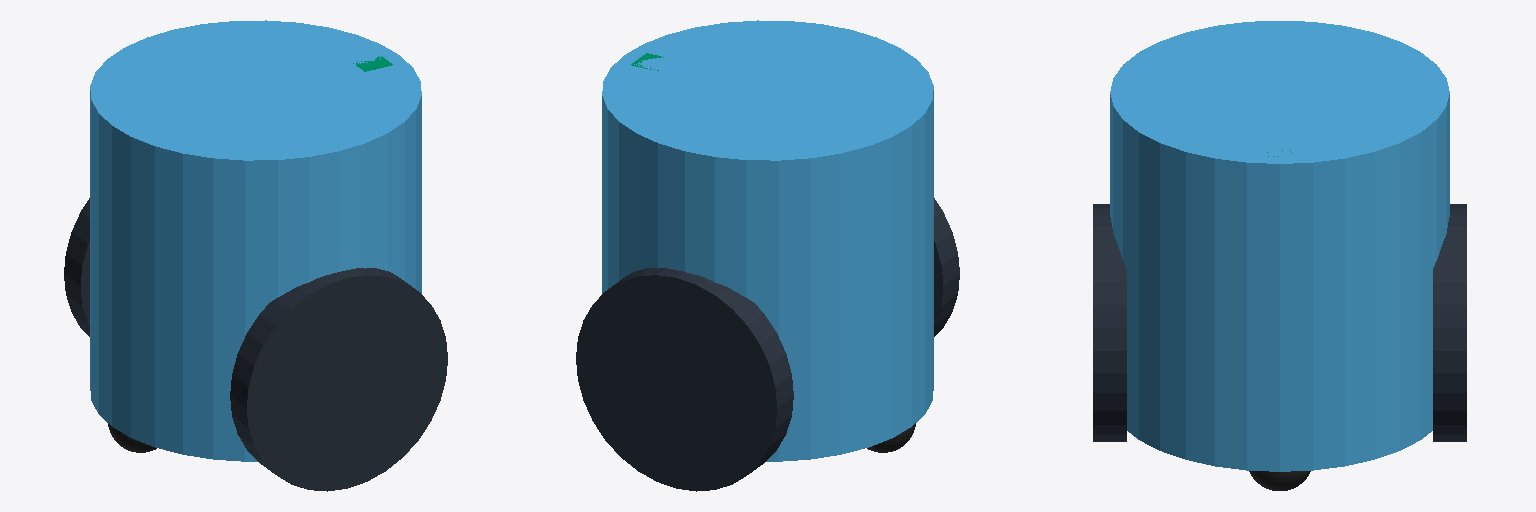
URDF robot description (box_bot):
<?xml version="1.0" ?>
<!-- =================================================================================== -->
<!-- |    This document was autogenerated by xacro from box_bot.xacro                  | -->
<!-- |    EDITING THIS FILE BY HAND IS NOT RECOMMENDED                                 | -->
<!-- =================================================================================== -->
<robot name="box_bot">
  <material name="black">
    <color rgba="0.0 0.0 0.0 1.0"/>
  </material>
  <material name="blue">
    <color rgba="0.203125 0.23828125 0.28515625 1.0"/>
  </material>
  <material name="green">
    <color rgba="0.0 0.8 0.0 1.0"/>
  </material>
  <material name="grey">
    <color rgba="0.2 0.2 0.2 1.0"/>
  </material>
  <material name="orange">
    <color rgba="1.0 0.423529411765 0.0392156862745 1.0"/>
  </material>
  <material name="brown">
    <color rgba="0.870588235294 0.811764705882 0.764705882353 1.0"/>
  </material>
  <material name="red">
    <color rgba="0.80078125 0.12890625 0.1328125 1.0"/>
  </material>
  <material name="white">
    <color rgba="1.0 1.0 1.0 1.0"/>
  </material>
  <gazebo reference="chassis">
    <material>Gazebo/Blue</material>
  </gazebo>
  <gazebo reference="left_wheel">
    <kp>1000.0</kp>
    <kd>1000.0</kd>
    <mu1>0.5</mu1>
    <mu2>0.5</mu2>
    <material>Gazebo/Blue</material>
  </gazebo>
  <gazebo reference="right_wheel">
    <kp>1000.0</kp>
    <kd>1000.0</kd>
    <mu1>0.5</mu1>
    <mu2>0.5</mu2>
    <material>Gazebo/Blue</material>
  </gazebo>
  <!-- ros_control plugin , no used in this robot for the moment-->
  <gazebo>
    <plugin filename="libgazebo_ros_control.so" name="gazebo_ros_control">
      <robotNamespace>/box_bot</robotNamespace>
      <robotParam>/robot_description</robotParam>
      <robotSimType>gazebo_ros_control/DefaultRobotHWSim</robotSimType>
    </plugin>
  </gazebo>
  <gazebo>
    <plugin filename="libgazebo_ros_diff_drive.so" name="differential_drive_controller">

      <ros>
        <!-- <namespace>/box_bot</namespace> -->
      </ros>

      <!-- wheels -->
      <left_joint>joint_right_wheel</left_joint>
      <right_joint>joint_left_wheel</right_joint>

      <!-- kinematics -->
      <wheel_separation>0.1</wheel_separation>
      <wheel_diameter>0.025</wheel_diameter>

      <!-- limits -->
      <max_wheel_torque>0.1</max_wheel_torque>
      <max_wheel_acceleration>1.0</max_wheel_acceleration>

      <!-- output -->
      <publish_odom>true</publish_odom>
      <publish_odom_tf>true</publish_odom_tf>

      <odometry_frame>odom</odometry_frame>
      <robot_base_frame>chassis</robot_base_frame>


    </plugin>

    <plugin name="box_bot_joint_state" filename="libgazebo_ros_joint_state_publisher.so">
        <ros>
            <remapping>~/out:=joint_states</remapping>
        </ros>
        <update_rate>30</update_rate>
        <joint_name>wheel_left_joint</joint_name>
        <joint_name>wheel_right_joint</joint_name>
    </plugin>

  </gazebo>
  <!-- imu -->

  <gazebo reference="base_link">
    <sensor name="box_bot_imu" type="imu">
      <always_on>true</always_on>
      <update_rate>30</update_rate>
      <plugin filename="libgazebo_ros_imu_sensor.so" name="box_bot_imu_plugin" >
        <ros>
          <argument>~/out:=data</argument>
        </ros>
      </plugin>
    </sensor>
  </gazebo>
  <!--
  <xacro:include filename="$(find box_bot_description)/robot/box_bot_propeller.xacro" />
  -->
  <link name="base_link">
      </link>
  <link name="chassis">
    <!-- pose and inertial -->
    <pose>0 0 0 0 0 0</pose>
    <inertial>
      <mass value="1.0"/>
      <origin rpy="0 0 0" xyz="0 0 -0.025"/>
      <inertia ixx="0.00033333333333333343" ixy="0" ixz="0" iyy="0.00033333333333333343" iyz="0" izz="0.00033333333333333343"/>
      <inertia ixx="0.000241935" ixy="0" ixz="0" iyy="0.000241935" iyz="0" izz="0.000241935"/>
    </inertial>
    <!-- body -->
    <collision name="collision_chassis">
      <geometry>
        <!-- <box size="0.1 0.1 0.1"/> -->

        <cylinder length="0.1" radius="0.05"/>
      </geometry>
    </collision>
    <visual name="visual_chassis">
      <geometry>
        <!-- <box size="0.1 0.1 0.1"/> -->
        <cylinder length="0.1" radius="0.05"/>
      </geometry>
    </visual>
  </link>
  <gazebo reference="chassis">
    <material>Gazebo/Red</material>
  </gazebo>
  <joint name="base_link_joint" type="fixed">
    <origin rpy="0 0 0" xyz="0 0 0"/>
    <parent link="base_link"/>
    <child link="chassis"/>
  </joint>

    <!-- CAMERA-->
    <link name='rgb_cam_camera_link'>
		<visual>
			<origin xyz="0 0 0"
					rpy="0 0 0"/>
			<geometry>
				<box size="0.01 0.01 0.01"/>
			</geometry>
		</visual>
	</link>

    <joint name="rgb_cam_camera_link_joint" type="fixed">
		<origin rpy="0 0 0" xyz="0.04 0.0 0.045"/>
		<parent link="chassis"/>
		<child link="rgb_cam_camera_link"/>
	</joint>


    <link name="rgb_cam_camera_link_frame">
    </link>

    <joint name="rgb_cam_camera_frame_joint" type="fixed">
        <origin xyz="0.01 0 0" rpy="0 0 0" />
        <parent link="rgb_cam_camera_link" />
        <child link="rgb_cam_camera_link_frame" />
        <axis xyz="0 0 0"/>
    </joint>

    <gazebo reference="rgb_cam_camera_link_frame">
        <sensor type="camera" name="rgb_cam">
        <update_rate>10.0</update_rate>
        <camera name="rgb_cam_SP">

            <pose>0 0 0 0 0 0</pose>

            <horizontal_fov>1.3962634</horizontal_fov>
            <image>
            <width>640</width>
            <height>480</height>
            <format>R8G8B8</format>
            </image>
            <clip>
                <near>0.005</near>
                <far>20.0</far>
            </clip>
        </camera>
        <plugin name="camera_controller" filename="libgazebo_ros_camera.so">
            <alwaysOn>true</alwaysOn>
            <updateRate>0.0</updateRate>
            <cameraName>rgb_cam</cameraName>
            <imageTopicName>image_raw</imageTopicName>
            <cameraInfoTopicName>camera_info</cameraInfoTopicName>
            <frameName>rgb_cam_camera_link_frame</frameName>
            <hackBaseline>0.07</hackBaseline>
            <distortionK1>0.0</distortionK1>
            <distortionK2>0.0</distortionK2>
            <distortionK3>0.0</distortionK3>
            <distortionT1>0.0</distortionT1>
            <distortionT2>0.0</distortionT2>
        </plugin>
        </sensor>
    </gazebo>



  <link name="right_wheel">
    <inertial>
      <mass value="0.2"/>
      <origin rpy="0 1.5707 1.5707" xyz="0 0 0"/>
      <inertia ixx="3.126666666666667e-05" ixy="0" ixz="0" iyy="3.126666666666667e-05" iyz="0" izz="6.250000000000001e-05"/>
    </inertial>
    <collision name="link_right_wheel_collision">
      <origin rpy="0 1.5707 1.5707" xyz="0 0 0"/>
      <geometry>
        <cylinder length="0.01" radius="0.035"/>
      </geometry>
    </collision>
    <visual>
      <origin rpy="0 1.5707 1.5707" xyz="0 0 0"/>
      <geometry>
        <cylinder length="0.01" radius="0.035"/>
      </geometry>
      <material name="blue"/>
    </visual>
  </link>
  <joint name="joint_right_wheel" type="continuous">
    <origin rpy="0 0 0" xyz="0 0.05 -0.025"/>
    <child link="right_wheel"/>
    <parent link="chassis"/>
    <axis rpy="0 0 0" xyz="0 1 0"/>
    <limit effort="10000" velocity="1000"/>
    <joint_properties damping="1.0" friction="1.0"/>
  </joint>
  <link name="left_wheel">
    <inertial>
      <mass value="0.2"/>
      <origin rpy="0 1.5707 1.5707" xyz="0 0 0"/>
      <inertia ixx="3.126666666666667e-05" ixy="0" ixz="0" iyy="3.126666666666667e-05" iyz="0" izz="6.250000000000001e-05"/>
    </inertial>
    <collision name="link_right_wheel_collision">
      <origin rpy="0 1.5707 1.5707" xyz="0 0 0"/>
      <geometry>
        <cylinder length="0.01" radius="0.035"/>
      </geometry>
    </collision>
    <visual>
      <origin rpy="0 1.5707 1.5707" xyz="0 0 0"/>
      <geometry>
        <cylinder length="0.01" radius="0.035"/>
      </geometry>
      <material name="blue"/>
    </visual>
  </link>
  <joint name="joint_left_wheel" type="continuous">
    <origin rpy="0 0 0" xyz="0 -0.05 -0.025"/>
    <child link="left_wheel"/>
    <parent link="chassis"/>
    <axis rpy="0 0 0" xyz="0 1 0"/>
    <limit effort="10000" velocity="1000"/>
    <joint_properties damping="1.0" friction="1.0"/>
  </joint>
  <!-- CASTER FRONT-->
  <link name="front_yaw_link">
    <inertial>
      <mass value="0.001"/>
      <origin rpy="0 1.5707 1.5707" xyz="0 0 0"/>
      <inertia ixx="5.145833333333334e-09" ixy="0" ixz="0" iyy="5.145833333333334e-09" iyz="0" izz="1.0125000000000003e-08"/>
    </inertial>
    <collision name="link_right_wheel_collision">
      <origin rpy="0 1.5707 1.5707" xyz="0 0 0"/>
      <geometry>
        <cylinder length="0.001" radius="0.0045000000000000005"/>
      </geometry>
    </collision>
  </link>
  <joint name="front_yaw_joint" type="continuous">
    <origin rpy="0 0 0" xyz="0.04 0 -0.05"/>
    <parent link="chassis"/>
    <child link="front_yaw_link"/>
    <axis xyz="0 0 1"/>
    <limit effort="1000.0" velocity="100.0"/>
    <dynamics damping="0.0" friction="0.1"/>
  </joint>
  <transmission name="front_yaw_joint_trans">
    <type>transmission_interface/SimpleTransmission</type>
    <joint name="front_yaw_joint">
      <hardwareInterface>EffortJointInterface</hardwareInterface>
    </joint>
    <actuator name="front_yaw_jointMotor">
      <hardwareInterface>EffortJointInterface</hardwareInterface>
      <mechanicalReduction>1</mechanicalReduction>
    </actuator>
  </transmission>
  <link name="front_roll_link">
    <inertial>
      <mass value="0.001"/>
      <origin rpy="0 1.5707 1.5707" xyz="0 0 0"/>
      <inertia ixx="5.145833333333334e-09" ixy="0" ixz="0" iyy="5.145833333333334e-09" iyz="0" izz="1.0125000000000003e-08"/>
    </inertial>
    <collision name="link_right_wheel_collision">
      <origin rpy="0 1.5707 1.5707" xyz="0 0 0"/>
      <geometry>
        <cylinder length="0.001" radius="0.0045000000000000005"/>
      </geometry>
    </collision>
  </link>
  <joint name="front_roll_joint" type="continuous">
    <origin rpy="0 0 0" xyz="0 0 0"/>
    <parent link="front_yaw_link"/>
    <child link="front_roll_link"/>
    <axis xyz="1 0 0"/>
    <limit effort="1000.0" velocity="100.0"/>
    <dynamics damping="0.0" friction="0.1"/>
  </joint>
  <transmission name="front_roll_joint_trans">
    <type>transmission_interface/SimpleTransmission</type>
    <joint name="front_roll_joint">
      <hardwareInterface>EffortJointInterface</hardwareInterface>
    </joint>
    <actuator name="front_roll_jointMotor">
      <hardwareInterface>EffortJointInterface</hardwareInterface>
      <mechanicalReduction>1</mechanicalReduction>
    </actuator>
  </transmission>
  <link name="front_pitch_link">
    <inertial>
      <mass value="0.001"/>
      <origin rpy="0 1.5707 1.5707" xyz="0 0 0"/>
      <inertia ixx="4e-08" ixy="0" ixz="0" iyy="4e-08" iyz="0" izz="4e-08"/>
    </inertial>
    <collision name="front_collision">
      <origin rpy="0 1.5707 1.5707" xyz="0 0 0"/>
      <geometry>
        <sphere radius="0.01"/>
      </geometry>
    </collision>
    <visual>
      <origin rpy="0 1.5707 1.5707" xyz="0 0 0"/>
      <geometry>
        <sphere radius="0.01"/>
      </geometry>
      <material name="grey"/>
    </visual>
  </link>
  <joint name="front_pitch_joint" type="continuous">
    <origin rpy="0 0 0" xyz="0 0 0"/>
    <parent link="front_roll_link"/>
    <child link="front_pitch_link"/>
    <axis xyz="0 1 0"/>
    <limit effort="1000.0" velocity="100.0"/>
    <dynamics damping="0.0" friction="0.1"/>
  </joint>
  <transmission name="front_pitch_joint_trans">
    <type>transmission_interface/SimpleTransmission</type>
    <joint name="front_pitch_joint">
      <hardwareInterface>EffortJointInterface</hardwareInterface>
    </joint>
    <actuator name="front_pitch_jointMotor">
      <hardwareInterface>EffortJointInterface</hardwareInterface>
      <mechanicalReduction>1</mechanicalReduction>
    </actuator>
  </transmission>
  <gazebo reference="front_pitch_link">
    <kp>1000000000000000000000000000.0</kp>
    <kd>1000000000000000000000000000.0</kd>
    <mu1>0.5</mu1>
    <mu2>0.5</mu2>
    <material>Gazebo/Green</material>
  </gazebo>
  <!-- CASTER FRONT-->
  <link name="back_yaw_link">
    <inertial>
      <mass value="0.001"/>
      <origin rpy="0 1.5707 1.5707" xyz="0 0 0"/>
      <inertia ixx="5.145833333333334e-09" ixy="0" ixz="0" iyy="5.145833333333334e-09" iyz="0" izz="1.0125000000000003e-08"/>
    </inertial>
    <collision name="link_right_wheel_collision">
      <origin rpy="0 1.5707 1.5707" xyz="0 0 0"/>
      <geometry>
        <cylinder length="0.001" radius="0.0045000000000000005"/>
      </geometry>
    </collision>
  </link>
  <joint name="back_yaw_joint" type="continuous">
    <origin rpy="0 0 0" xyz="-0.04 0 -0.05"/>
    <parent link="chassis"/>
    <child link="back_yaw_link"/>
    <axis xyz="0 0 1"/>
    <limit effort="1000.0" velocity="100.0"/>
    <dynamics damping="0.0" friction="0.1"/>
  </joint>
  <transmission name="back_yaw_joint_trans">
    <type>transmission_interface/SimpleTransmission</type>
    <joint name="back_yaw_joint">
      <hardwareInterface>EffortJointInterface</hardwareInterface>
    </joint>
    <actuator name="back_yaw_jointMotor">
      <hardwareInterface>EffortJointInterface</hardwareInterface>
      <mechanicalReduction>1</mechanicalReduction>
    </actuator>
  </transmission>
  <link name="back_roll_link">
    <inertial>
      <mass value="0.001"/>
      <origin rpy="0 1.5707 1.5707" xyz="0 0 0"/>
      <inertia ixx="5.145833333333334e-09" ixy="0" ixz="0" iyy="5.145833333333334e-09" iyz="0" izz="1.0125000000000003e-08"/>
    </inertial>
    <collision name="link_right_wheel_collision">
      <origin rpy="0 1.5707 1.5707" xyz="0 0 0"/>
      <geometry>
        <cylinder length="0.001" radius="0.0045000000000000005"/>
      </geometry>
    </collision>
  </link>
  <joint name="back_roll_joint" type="continuous">
    <origin rpy="0 0 0" xyz="0 0 0"/>
    <parent link="back_yaw_link"/>
    <child link="back_roll_link"/>
    <axis xyz="1 0 0"/>
    <limit effort="1000.0" velocity="100.0"/>
    <dynamics damping="0.0" friction="0.1"/>
  </joint>
  <transmission name="back_roll_joint_trans">
    <type>transmission_interface/SimpleTransmission</type>
    <joint name="back_roll_joint">
      <hardwareInterface>EffortJointInterface</hardwareInterface>
    </joint>
    <actuator name="back_roll_jointMotor">
      <hardwareInterface>EffortJointInterface</hardwareInterface>
      <mechanicalReduction>1</mechanicalReduction>
    </actuator>
  </transmission>
  <link name="back_pitch_link">
    <inertial>
      <mass value="0.001"/>
      <origin rpy="0 1.5707 1.5707" xyz="0 0 0"/>
      <inertia ixx="4e-08" ixy="0" ixz="0" iyy="4e-08" iyz="0" izz="4e-08"/>
    </inertial>
    <collision name="back_collision">
      <origin rpy="0 1.5707 1.5707" xyz="0 0 0"/>
      <geometry>
        <sphere radius="0.01"/>
      </geometry>
    </collision>
    <visual>
      <origin rpy="0 1.5707 1.5707" xyz="0 0 0"/>
      <geometry>
        <sphere radius="0.01"/>
      </geometry>
      <material name="grey"/>
    </visual>
  </link>
  <joint name="back_pitch_joint" type="continuous">
    <origin rpy="0 0 0" xyz="0 0 0"/>
    <parent link="back_roll_link"/>
    <child link="back_pitch_link"/>
    <axis xyz="0 1 0"/>
    <limit effort="1000.0" velocity="100.0"/>
    <dynamics damping="0.0" friction="0.1"/>
  </joint>
  <transmission name="back_pitch_joint_trans">
    <type>transmission_interface/SimpleTransmission</type>
    <joint name="back_pitch_joint">
      <hardwareInterface>EffortJointInterface</hardwareInterface>
    </joint>
    <actuator name="back_pitch_jointMotor">
      <hardwareInterface>EffortJointInterface</hardwareInterface>
      <mechanicalReduction>1</mechanicalReduction>
    </actuator>
  </transmission>
  <gazebo reference="back_pitch_link">
    <kp>1000000000000000000000000000.0</kp>
    <kd>1000000000000000000000000000.0</kd>
    <mu1>0.5</mu1>
    <mu2>0.5</mu2>
    <material>Gazebo/Green</material>
  </gazebo>
</robot>

--- Facts derived from the render (not from the file) ---
Views: 3 orthographic renders of the robot side by side, from view 1: azimuth 30°, elevation 25°; view 2: azimuth 150°, elevation 25°; view 3: azimuth 270°, elevation 25°.
Robot: box_bot — 12 links, 11 joints (8 continuous, 3 fixed); root link base_link; default pose: every joint at zero.
Visible links, largest first — view 1: chassis, left_wheel, right_wheel; view 2: chassis, right_wheel, left_wheel; view 3: chassis, right_wheel, left_wheel, front_pitch_link.
Link boxes in pixels (box(x1,y1,x2,y2)): chassis: box(90, 20, 421, 461); left_wheel: box(230, 268, 447, 491); right_wheel: box(64, 198, 89, 336); chassis: box(602, 20, 933, 461); right_wheel: box(576, 268, 793, 491); left_wheel: box(934, 198, 959, 336); chassis: box(1110, 21, 1449, 471); right_wheel: box(1433, 204, 1466, 441); left_wheel: box(1093, 204, 1126, 441); front_pitch_link: box(1249, 471, 1310, 490).
Size in the robot's own frame: 0.1 by 0.11 by 0.11 metres.
Geometry: primitives only (box / cylinder / sphere), no mesh files.